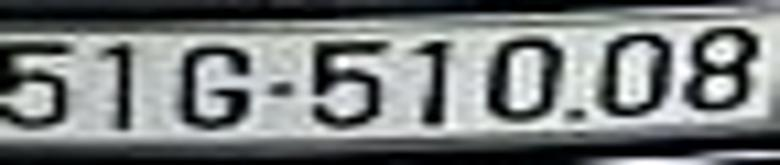-: (268, 81, 293, 94)
.: (568, 110, 580, 121)
0: (599, 34, 670, 115), (486, 35, 554, 119)
1: (103, 44, 133, 130), (421, 41, 450, 122)
5: (0, 43, 69, 127), (315, 40, 384, 122)
8: (684, 29, 754, 113)
G: (181, 44, 250, 130)
